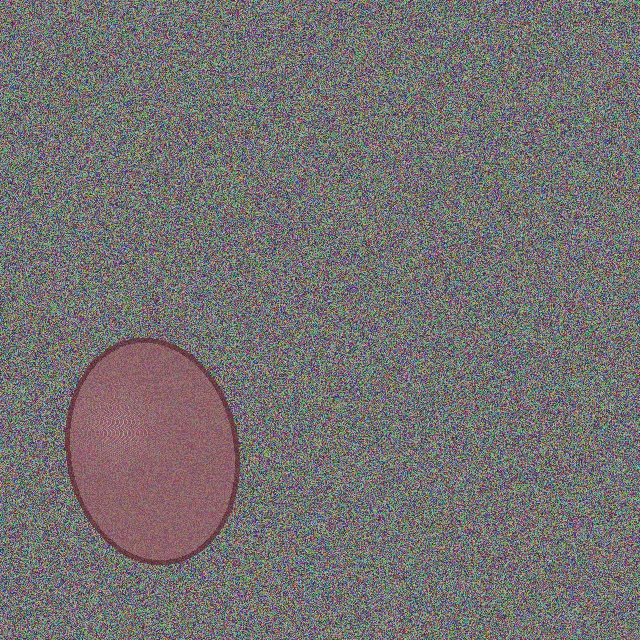lens: (67, 341, 237, 561)
